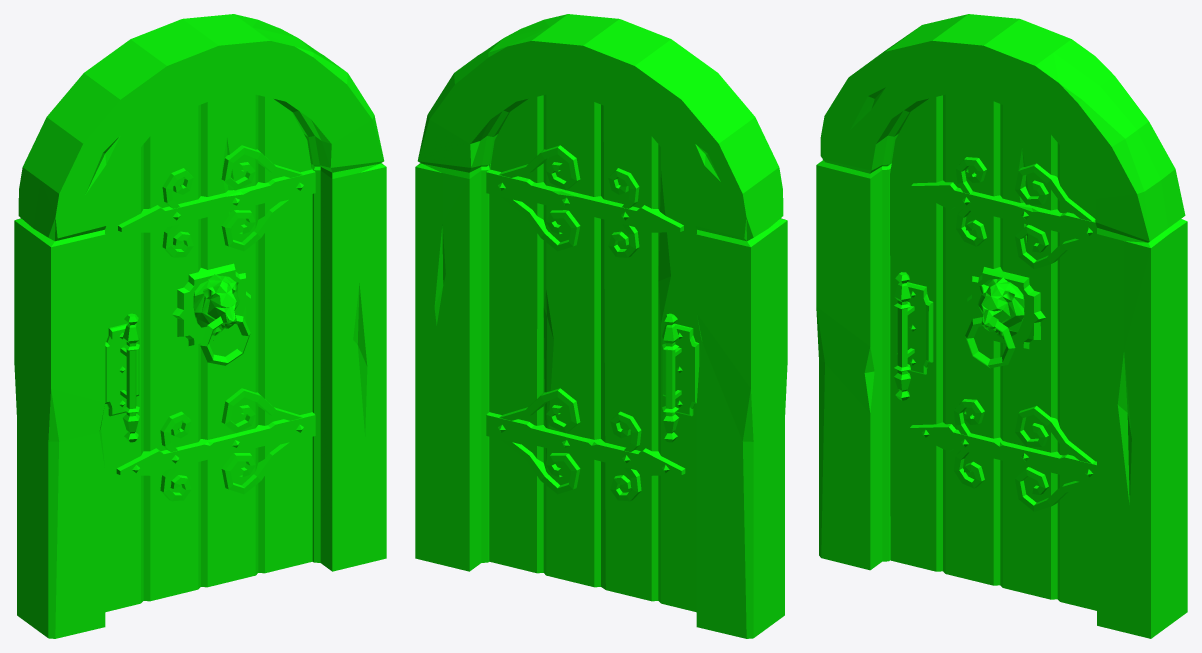
The model's file is SM_Door_Single_B_Regular_Fantasy.fbx.
3 renders of one model, left to right at view 1: azimuth 30°, elevation 25°; view 2: azimuth 150°, elevation 25°; view 3: azimuth 330°, elevation 25°, orthographic.
Parts seen in each view (by area): view 1: door-single-b-regular-fantasy-frame, door-single-b-regular-fantasy-door; view 2: door-single-b-regular-fantasy-frame, door-single-b-regular-fantasy-door; view 3: door-single-b-regular-fantasy-frame, door-single-b-regular-fantasy-door.
Boxes of the visible parts, x1=… form: door-single-b-regular-fantasy-frame: x1=14, y1=14, x2=386, y2=638; door-single-b-regular-fantasy-door: x1=101, y1=94, x2=315, y2=612; door-single-b-regular-fantasy-frame: x1=415, y1=14, x2=787, y2=638; door-single-b-regular-fantasy-door: x1=486, y1=94, x2=700, y2=612; door-single-b-regular-fantasy-frame: x1=816, y1=14, x2=1187, y2=638; door-single-b-regular-fantasy-door: x1=890, y1=94, x2=1096, y2=610.
Bounding box in the file's own units: 1.54 × 2.43 × 0.3561.
